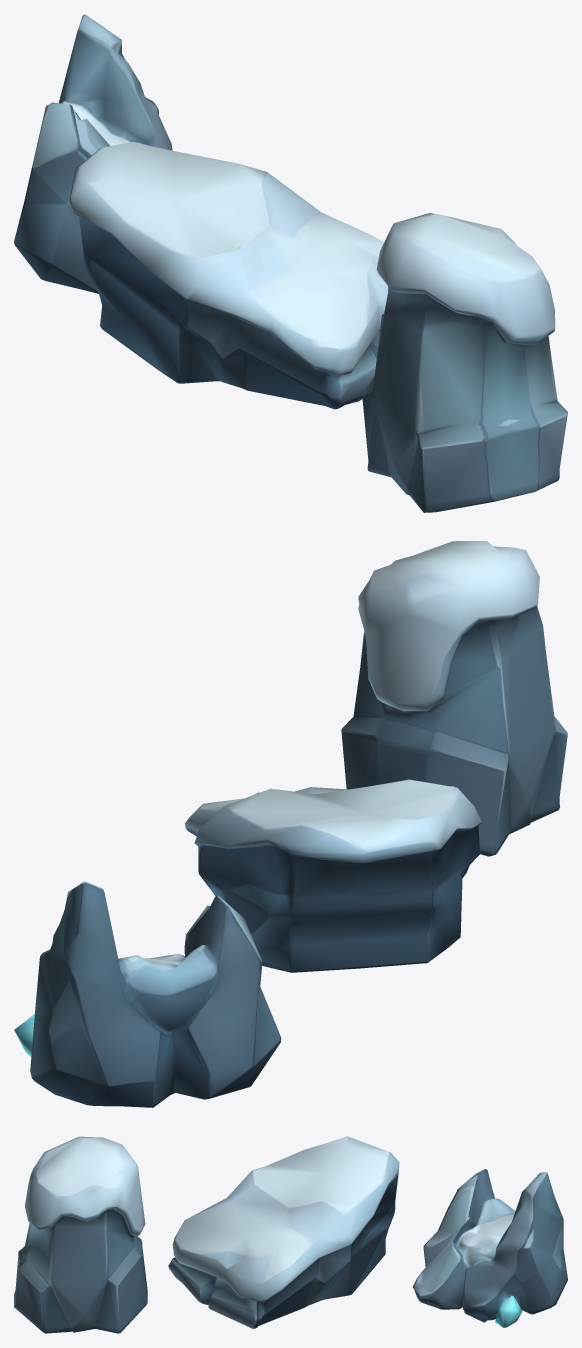
3 renders of one model, top to bottom at view 1: azimuth 30°, elevation 25°; view 2: azimuth 150°, elevation 25°; view 3: azimuth 270°, elevation 25°, orthographic. The views are drawn at different scales.
Parts seen in each view (by area): view 1: tripo_node_a3643d9a-a015-4953-a8e1-3d32fbc84ec0; view 2: tripo_node_a3643d9a-a015-4953-a8e1-3d32fbc84ec0; view 3: tripo_node_a3643d9a-a015-4953-a8e1-3d32fbc84ec0.
Boxes of the visible parts, bbox=[...] form: tripo_node_a3643d9a-a015-4953-a8e1-3d32fbc84ec0: bbox=[14, 14, 567, 512]; tripo_node_a3643d9a-a015-4953-a8e1-3d32fbc84ec0: bbox=[14, 541, 567, 1107]; tripo_node_a3643d9a-a015-4953-a8e1-3d32fbc84ec0: bbox=[14, 1136, 567, 1333].
Bounding box in the file's own units: 0.3796 × 0.3288 × 0.998.
1 material, 1 textured.
